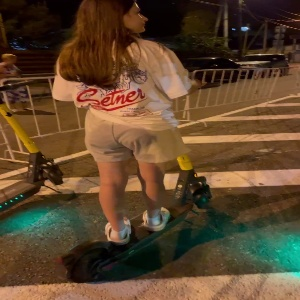human on a scooter: (47, 1, 220, 284)
